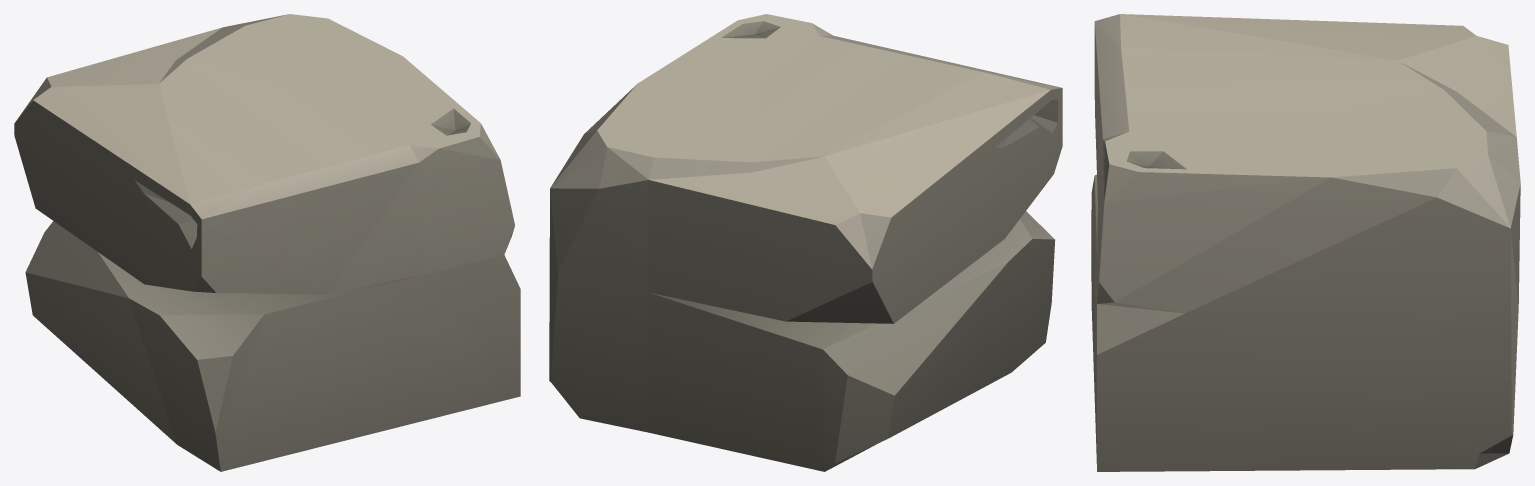
The model's file is Rock_Medium_2A.fbx.
3 renders of one model, left to right at view 1: azimuth 30°, elevation 25°; view 2: azimuth 150°, elevation 25°; view 3: azimuth 270°, elevation 25°, orthographic. The views are drawn at different scales.
Visible parts, largest first — view 1: Rock_Medium_2A; view 2: Rock_Medium_2A; view 3: Rock_Medium_2A.
Part boxes in pixels (bbox=[...]): Rock_Medium_2A: bbox=[14, 14, 520, 471]; Rock_Medium_2A: bbox=[549, 14, 1062, 471]; Rock_Medium_2A: bbox=[1091, 14, 1520, 471].
Size of the model in its own units: 1.93 by 1.49 by 1.99.
